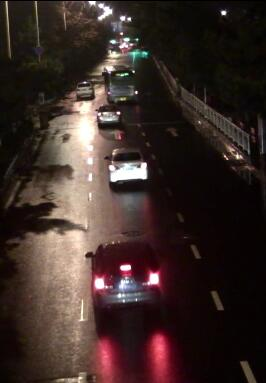bus: (100, 65, 137, 101)
car: (83, 242, 165, 312), (103, 144, 152, 188), (95, 106, 124, 128), (73, 78, 94, 99)
